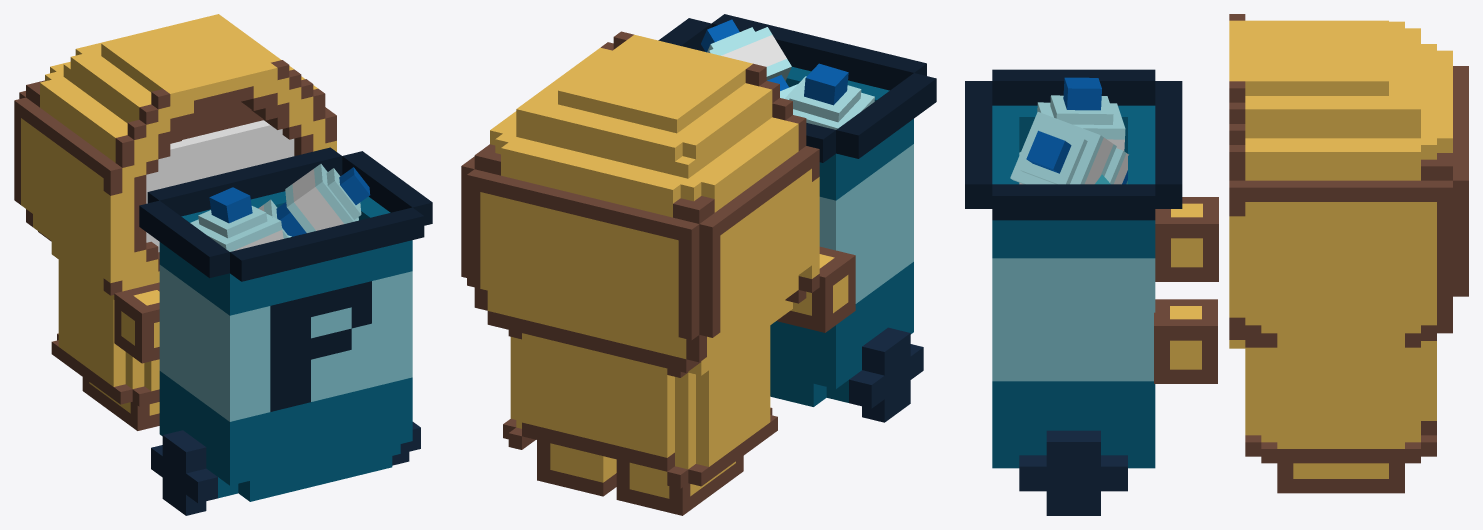
File: p1MetConDizzy.gltf
3 renders of one model, left to right at view 1: azimuth 30°, elevation 25°; view 2: azimuth 150°, elevation 25°; view 3: azimuth 270°, elevation 25°, orthographic. The views are drawn at different scales.
Visible parts, largest first — view 1: Yup2Zup.001; view 2: Yup2Zup.001; view 3: Yup2Zup.001.
Boxes of the visible parts, box(x1,y1,x2,y2) form: Yup2Zup.001: box(14, 14, 432, 515); Yup2Zup.001: box(461, 14, 936, 515); Yup2Zup.001: box(965, 14, 1468, 515).
Size of the model in its own units: 1.93 by 2.8 by 3.16.
7 materials, 7 textured.
